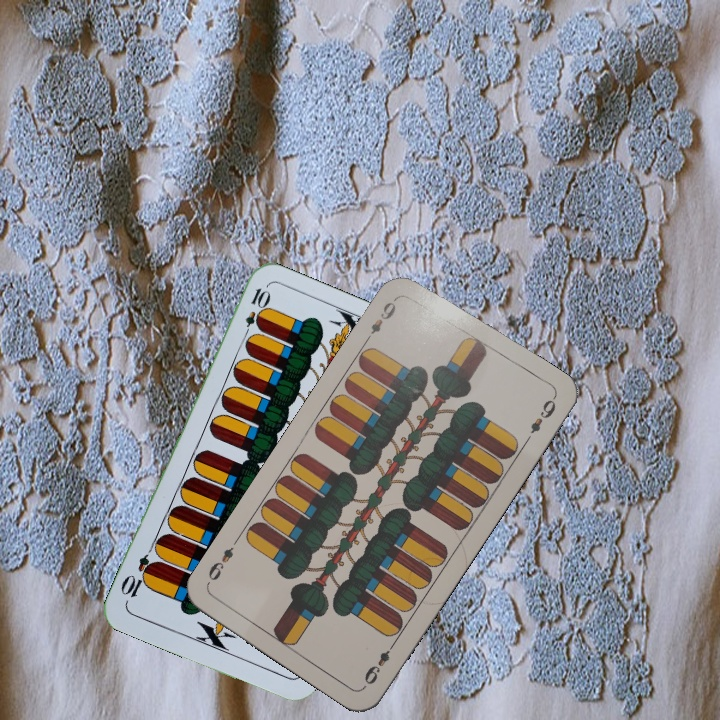E10: (239, 284, 271, 342)
E9: (362, 292, 402, 344), (360, 637, 399, 688)
